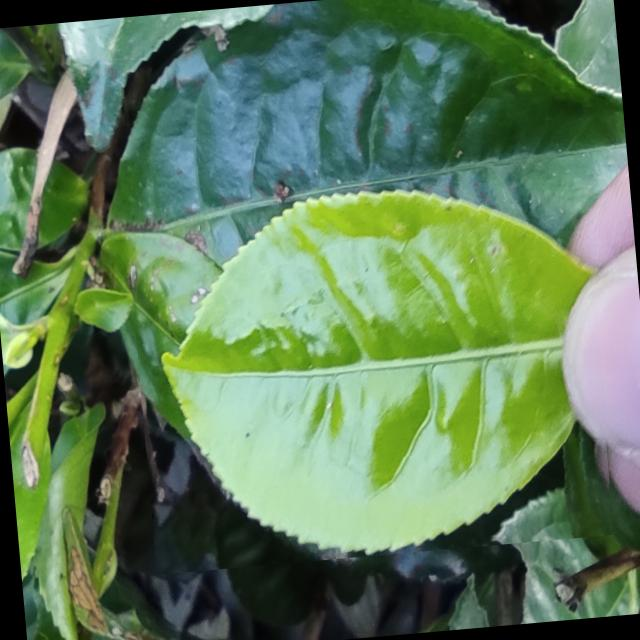Category C(4-7 days): (122, 145, 620, 573)
